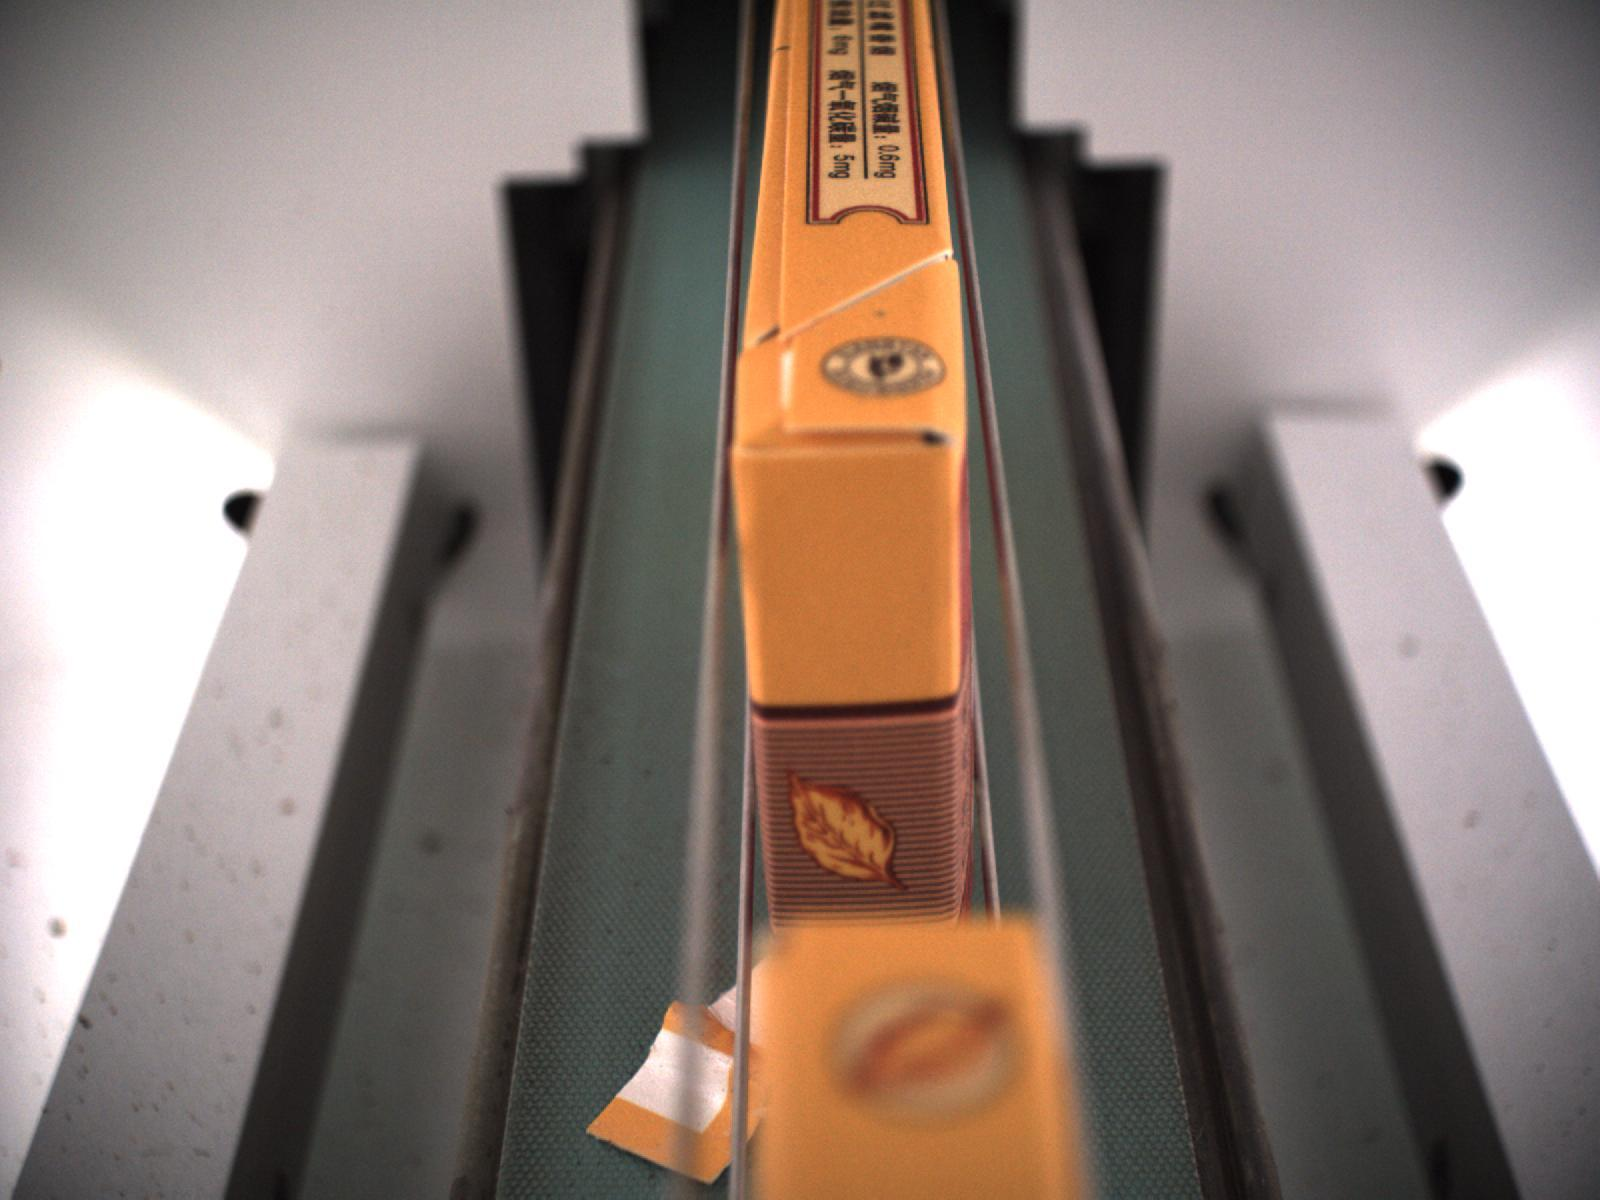dirtySpot: (871, 306, 887, 319)
headDamage_upper_2: (737, 343, 963, 458)
skewed_upper_2: (745, 26, 815, 354)
